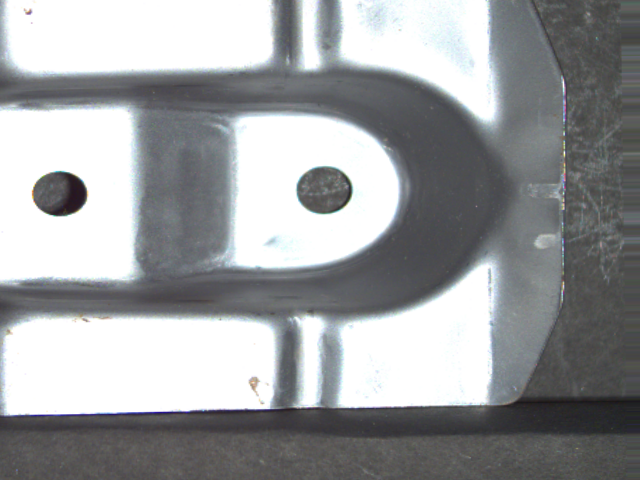defect: (292, 161, 359, 219)
